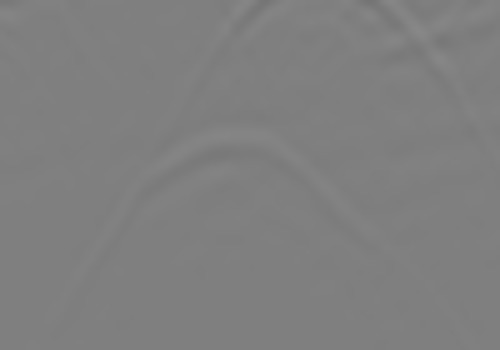hyperbola: (79, 125, 436, 323)
